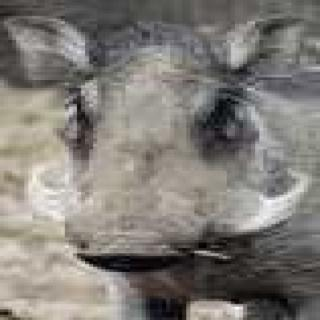Pig: (16, 0, 320, 310)
